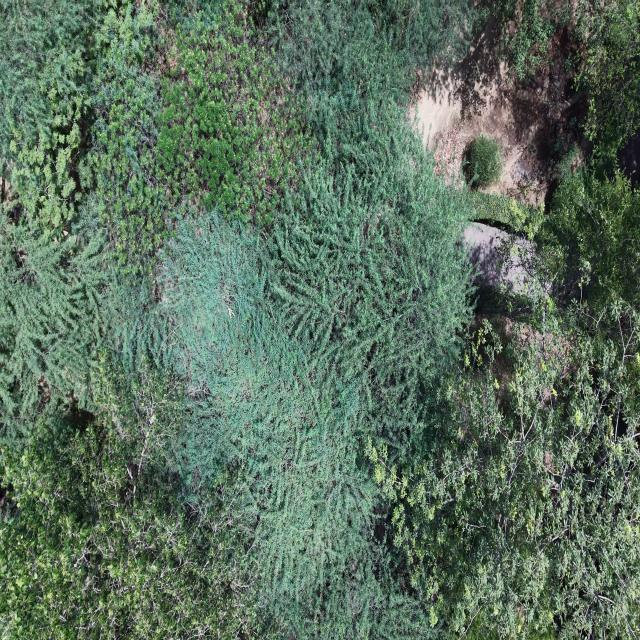DRY_AREA: (410, 19, 589, 204), (410, 19, 588, 203), (462, 223, 535, 294)
VEGETATION_TREE: (0, 0, 639, 639), (3, 4, 470, 637), (367, 302, 639, 637), (0, 374, 258, 638), (156, 3, 307, 223), (0, 210, 110, 438), (490, 0, 639, 165), (0, 0, 97, 232), (539, 168, 639, 307), (578, 0, 639, 154), (494, 0, 571, 80), (472, 190, 540, 232), (466, 134, 502, 187)
